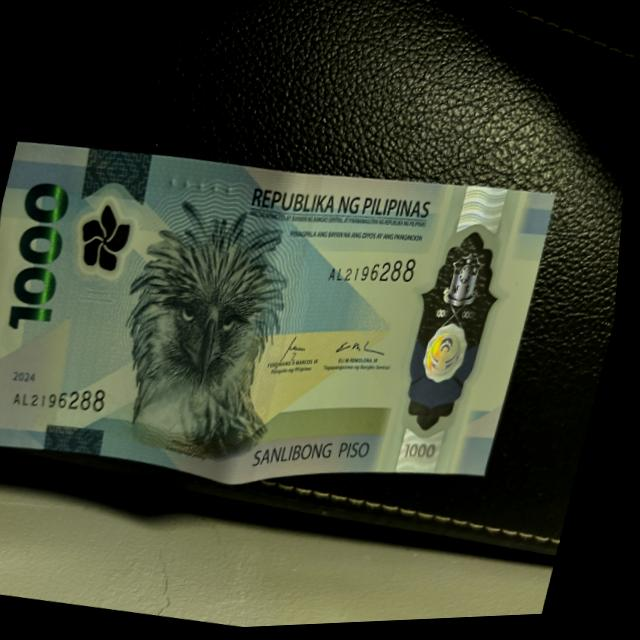clear_window: (395, 212, 522, 459)
eagle: (107, 206, 297, 470)
sampaguita: (72, 198, 141, 280)
